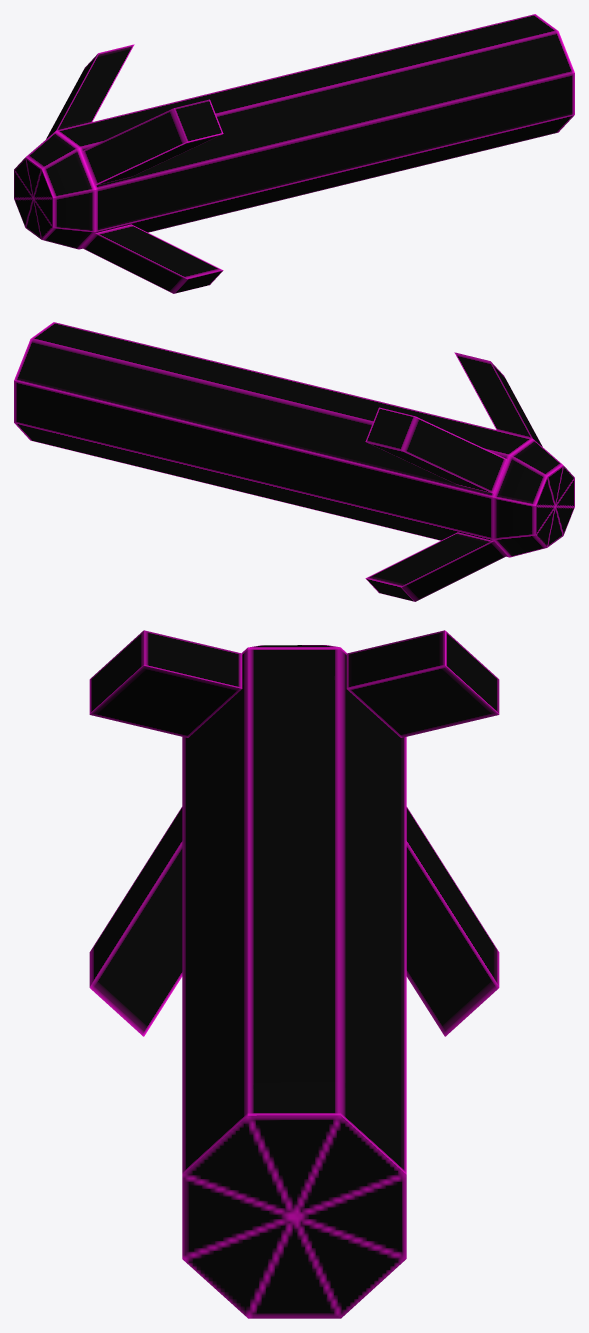
Rendered from GUA.fbx.
The picture shows the model from 3 angles, top to bottom: view 1: azimuth 30°, elevation 25°; view 2: azimuth 150°, elevation 25°; view 3: azimuth 270°, elevation 25°; orthographic projection. The views are drawn at different scales.
Visible parts, largest first — view 1: pCylinder2; view 2: pCylinder2; view 3: pCylinder2.
Boxes of the visible parts, x1,y1,x2,y2 form: pCylinder2: [14, 14, 574, 293]; pCylinder2: [14, 322, 574, 601]; pCylinder2: [89, 630, 499, 1318].
Size of the model in its own units: 7.85 by 2.71 by 2.71.
Materials: 1 (1 with a texture image).
